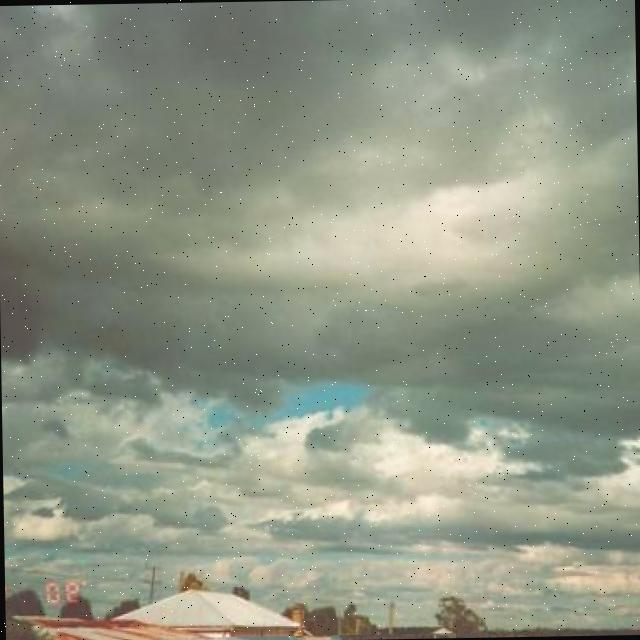Sc: (1, 5, 640, 468)
